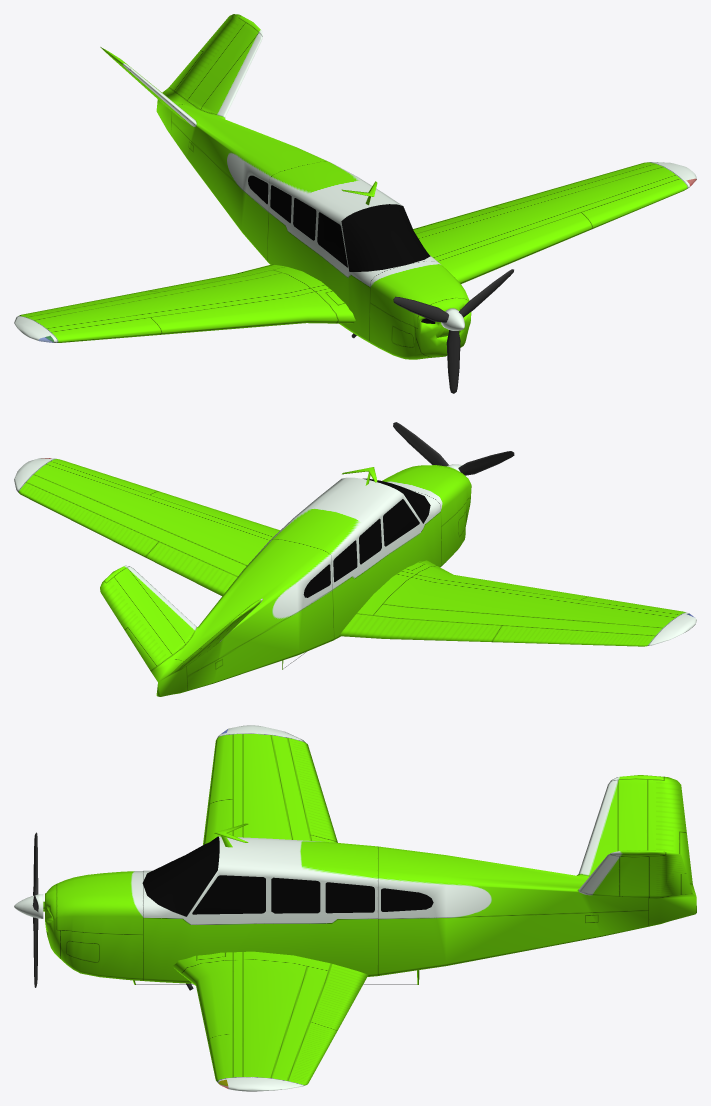
Rendered from airplane4.obj.
The picture shows the model from 3 angles, top to bottom: view 1: azimuth 30°, elevation 25°; view 2: azimuth 150°, elevation 25°; view 3: azimuth 270°, elevation 25°; orthographic projection. The views are drawn at different scales.
Parts seen in each view (by area): view 1: aircraft, window, propeller; view 2: aircraft, window, propeller; view 3: aircraft, window, propeller.
Boxes of the visible parts, x1=… form: aircraft: x1=14, y1=14, x2=696, y2=359; window: x1=248, y1=175, x2=430, y2=271; propeller: x1=393, y1=269, x2=513, y2=393; aircraft: x1=14, y1=458, x2=696, y2=696; window: x1=303, y1=478, x2=430, y2=597; propeller: x1=393, y1=422, x2=514, y2=475; aircraft: x1=43, y1=725, x2=696, y2=1091; window: x1=142, y1=836, x2=433, y2=916; propeller: x1=14, y1=832, x2=43, y2=987.
Size of the model in its own units: 11.72 by 2.63 by 9.29.
Materials: 5 (1 with a texture image).
